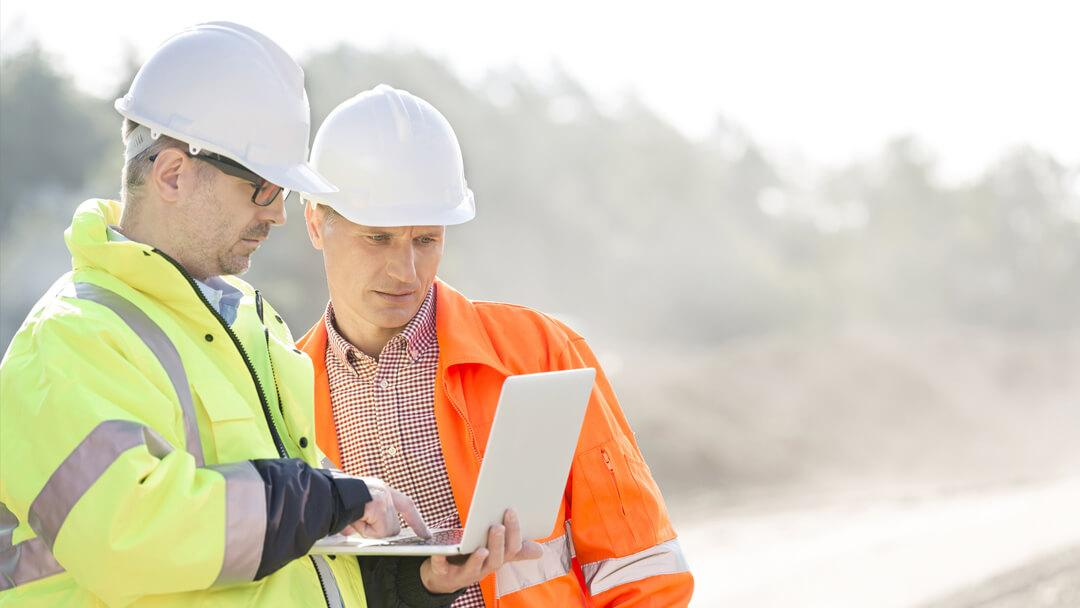helmet: (117, 23, 320, 201), (301, 85, 482, 230)
